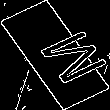M_SW: (14, 22, 96, 88)
